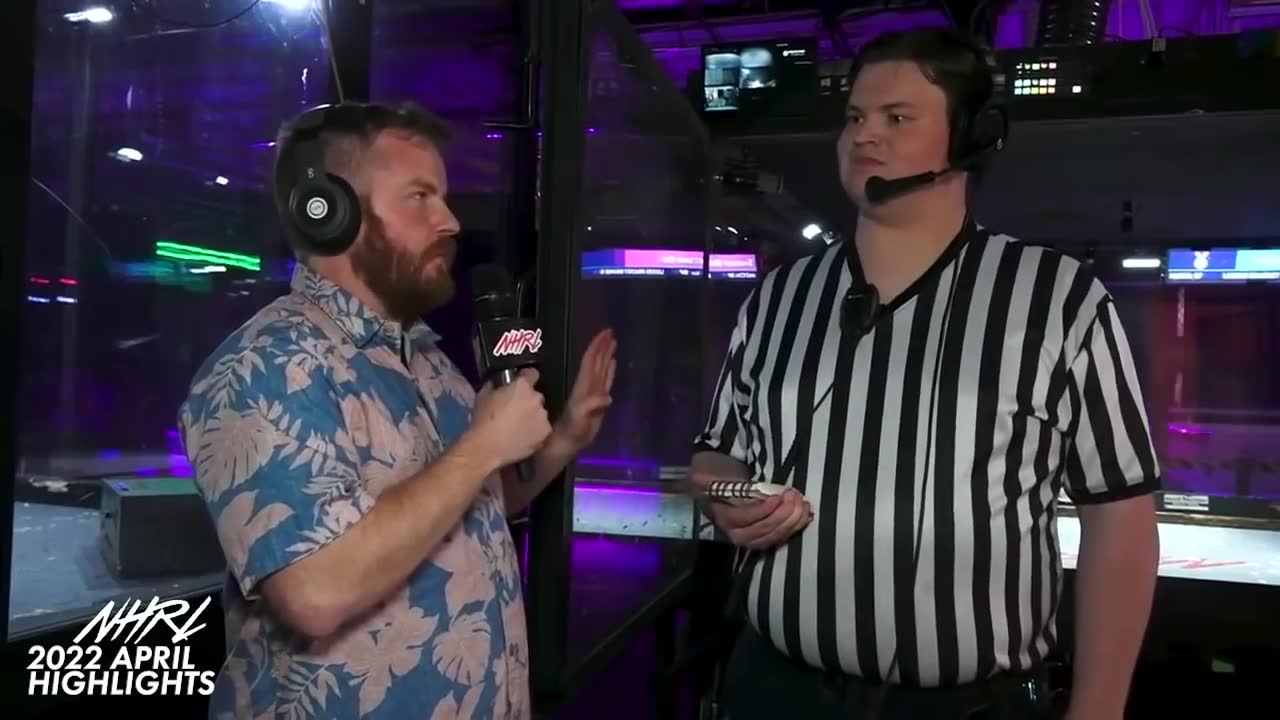housebot: (108, 476, 212, 578)
